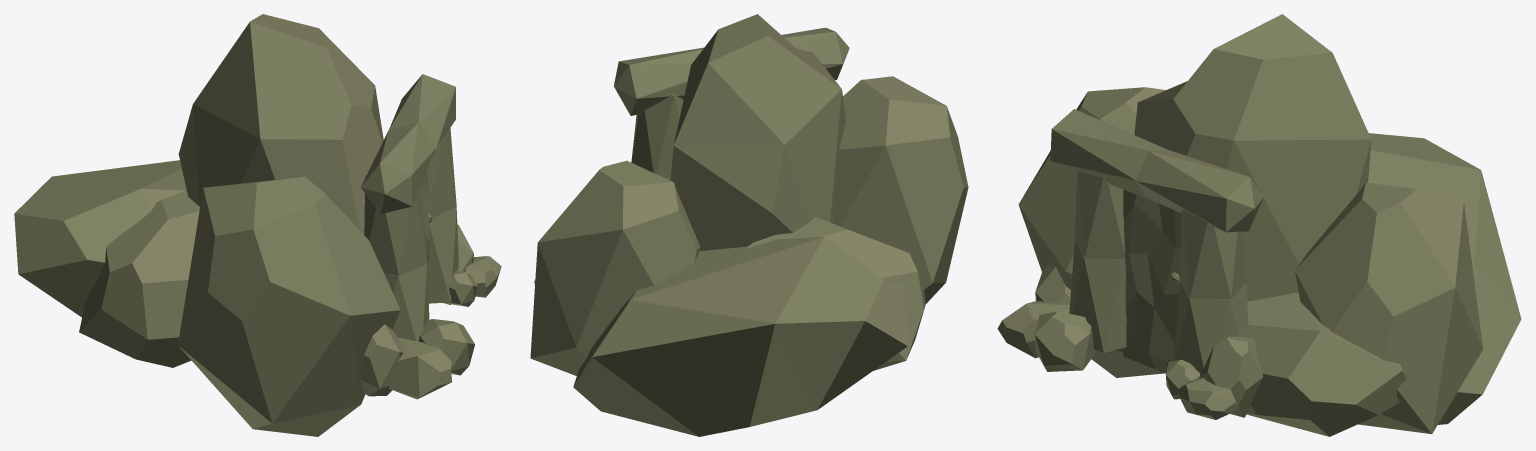
Rendered from EndOfLevel.fbx.
3 renders of one model, left to right at view 1: azimuth 30°, elevation 25°; view 2: azimuth 150°, elevation 25°; view 3: azimuth 270°, elevation 25°, orthographic. The views are drawn at different scales.
Visible parts, largest first — view 1: Icosphere.013, Icosphere.016, Icosphere.022, Icosphere.021, Icosphere.008, Icosphere.004, Icosphere.007, Icosphere.010, Icosphere.006, Icosphere.003, Icosphere.012, Icosphere.005 (+5 smaller); view 2: Icosphere.022, Icosphere.016, Icosphere.015, Icosphere.013, Icosphere.021, Icosphere.007, Icosphere.005, Icosphere.008; view 3: Icosphere.016, Icosphere.015, Icosphere.014, Icosphere.022, Cube, Icosphere.013, Icosphere.007, Icosphere.008, Icosphere.005, Icosphere.003, Icosphere.006, Icosphere.004 (+6 smaller).
Part boxes in pixels (x1,y1,x2,y2): Icosphere.013: (178,176,400,436); Icosphere.016: (178,14,383,234); Icosphere.022: (14,160,186,317); Icosphere.021: (79,190,199,367); Icosphere.008: (360,123,436,213); Icosphere.004: (364,174,427,275); Icosphere.007: (389,74,455,147); Icosphere.010: (389,337,452,399); Icosphere.006: (427,207,458,303); Icosphere.003: (384,264,429,341); Icosphere.012: (360,324,403,396); Icosphere.005: (427,128,456,217); Icosphere.022: (573,236,907,436); Icosphere.016: (670,14,845,250); Icosphere.015: (530,160,700,375); Icosphere.013: (833,76,968,303); Icosphere.021: (744,217,925,370); Icosphere.007: (614,47,703,115); Icosphere.005: (631,94,683,178); Icosphere.008: (781,27,849,80); Icosphere.016: (1134,14,1371,301); Icosphere.015: (1295,182,1482,433); Icosphere.014: (1244,292,1406,436); Icosphere.022: (1368,133,1521,424); Cube: (1123,189,1182,373); Icosphere.013: (1018,87,1165,377); Icosphere.007: (1135,150,1263,232); Icosphere.008: (1050,109,1168,198); Icosphere.005: (1180,209,1246,299); Icosphere.003: (1069,242,1126,352); Icosphere.006: (1174,283,1248,373); Icosphere.004: (1074,171,1125,259).
Bounding box in the file's own units: 431 × 365 × 465.
